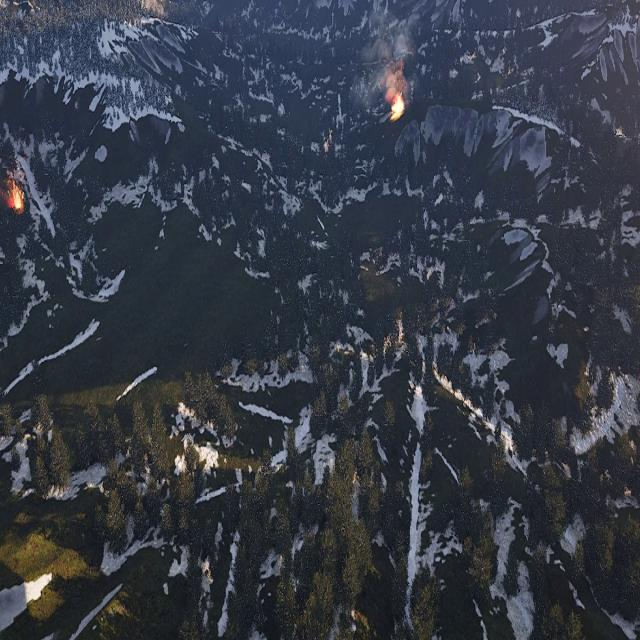fire: (0, 156, 26, 210), (390, 95, 405, 120)
smoke: (353, 7, 418, 107)
